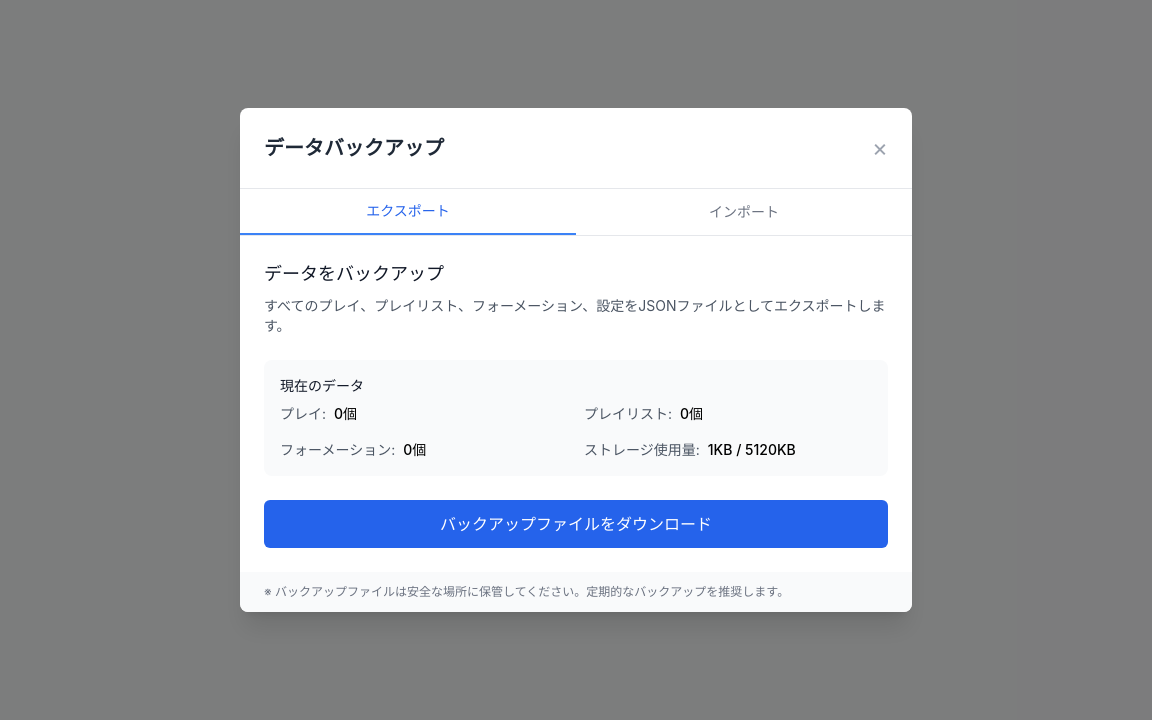
BackupManager Component › タブ機能 › インポートタブに切り替えられること
What coordinates should you click on to do the following:
click the button "インポート"
I would click on:
 (744, 212)
Its box is [576,189,912,235].
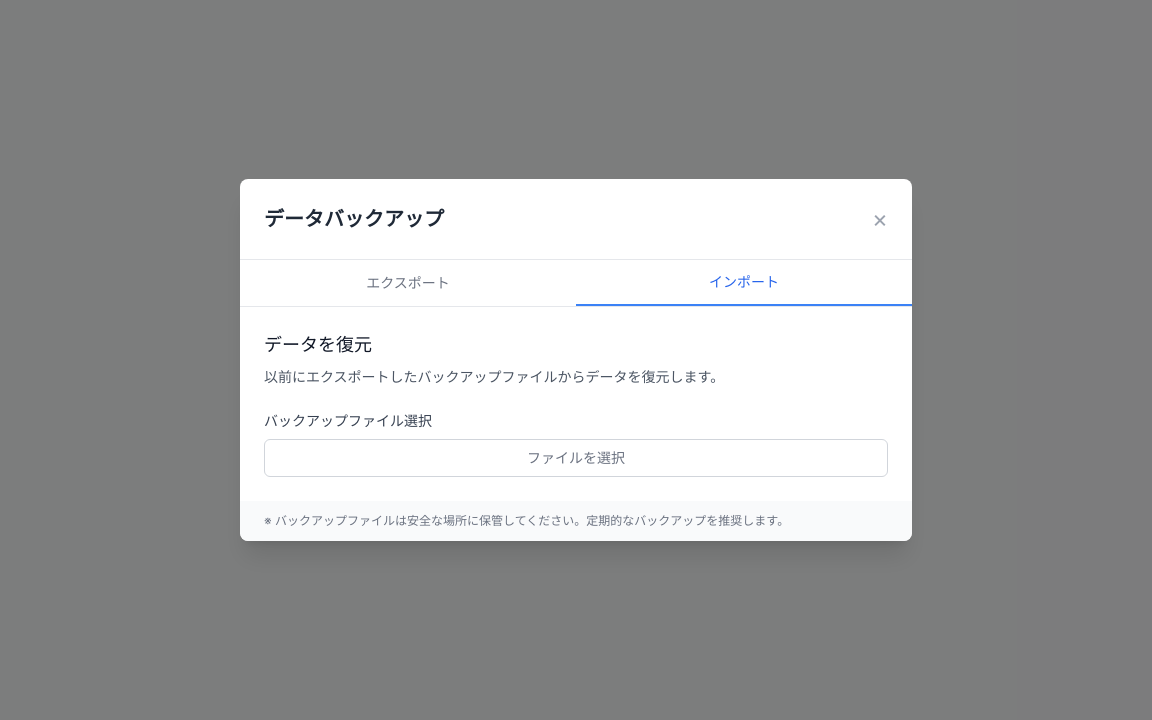
Expected: the heading "データを復元" is shown, [264,334,372,355]
